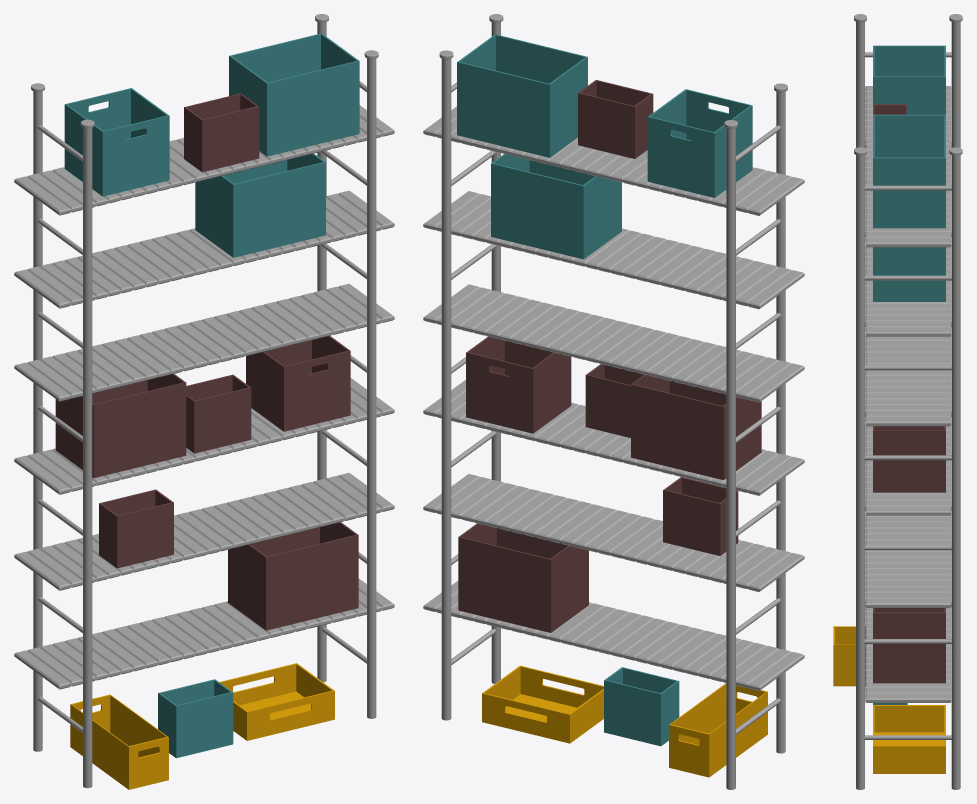
File: BoxShelves02.fbx
3 renders of one model, left to right at view 1: azimuth 30°, elevation 25°; view 2: azimuth 150°, elevation 25°; view 3: azimuth 270°, elevation 25°, orthographic. The views are drawn at different scales.
Parts seen in each view (by area): view 1: BoxShelves02; view 2: BoxShelves02; view 3: BoxShelves02.
Part boxes in pixels (x1,y1,x2,y2): BoxShelves02: (14,14,394,789); BoxShelves02: (423,14,804,789); BoxShelves02: (833,14,962,789).
Size of the model in its own units: 115 by 217 by 39.89.
